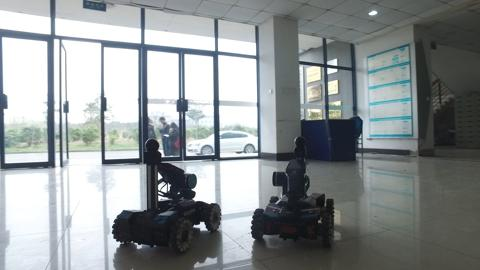chariot: (110, 133, 224, 255), (246, 135, 343, 246)
